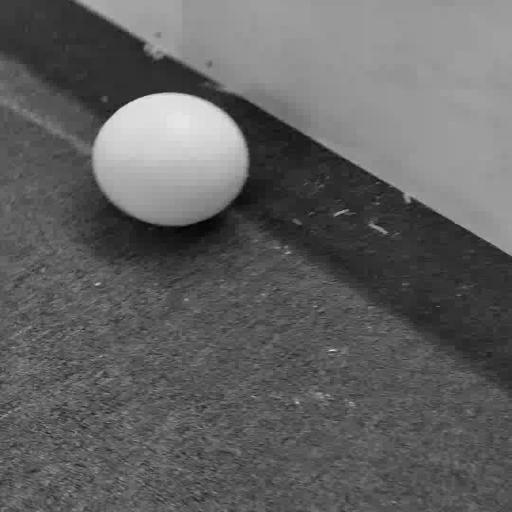fuel: (92, 93, 249, 227)
